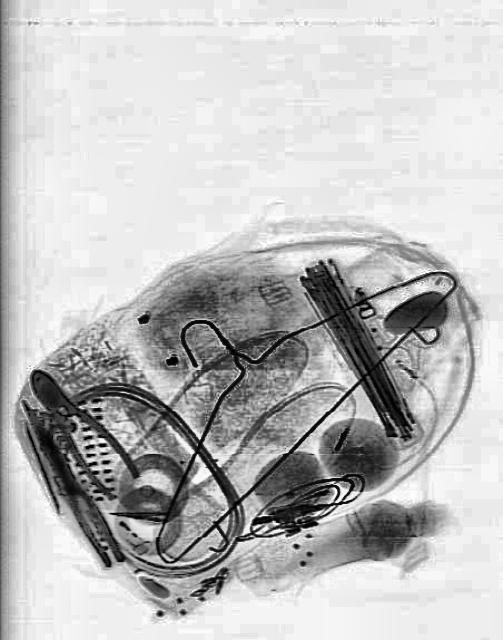Pliers: (11, 392, 130, 574), (16, 353, 142, 505)
